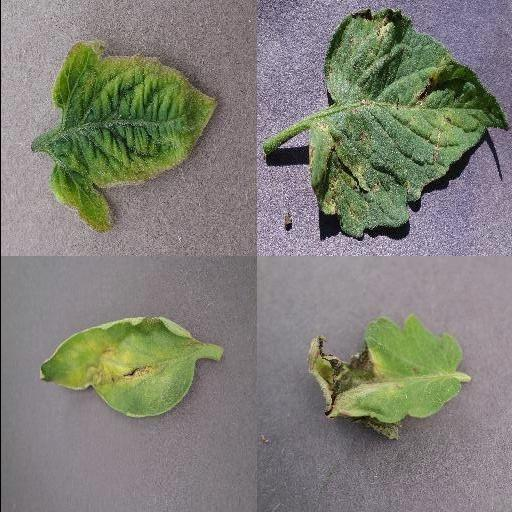Late Blight: (302, 316, 464, 442), (36, 314, 198, 420)
Septoria: (304, 8, 508, 240)
Yellow Leaf Curl Virus: (48, 42, 218, 234)
